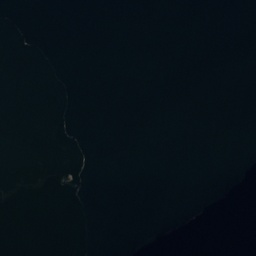Marine Debris: (23, 40, 29, 46)
